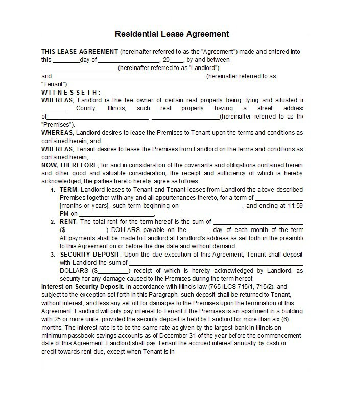textline: (129, 258, 306, 267), (52, 72, 207, 82), (212, 216, 305, 227), (48, 112, 149, 122), (150, 111, 220, 124), (39, 63, 117, 72), (78, 210, 157, 218), (180, 202, 245, 211), (97, 56, 160, 64), (255, 193, 305, 203), (65, 224, 106, 235), (98, 266, 128, 275), (52, 55, 79, 64), (189, 225, 211, 235), (39, 105, 65, 112), (170, 54, 185, 65)
